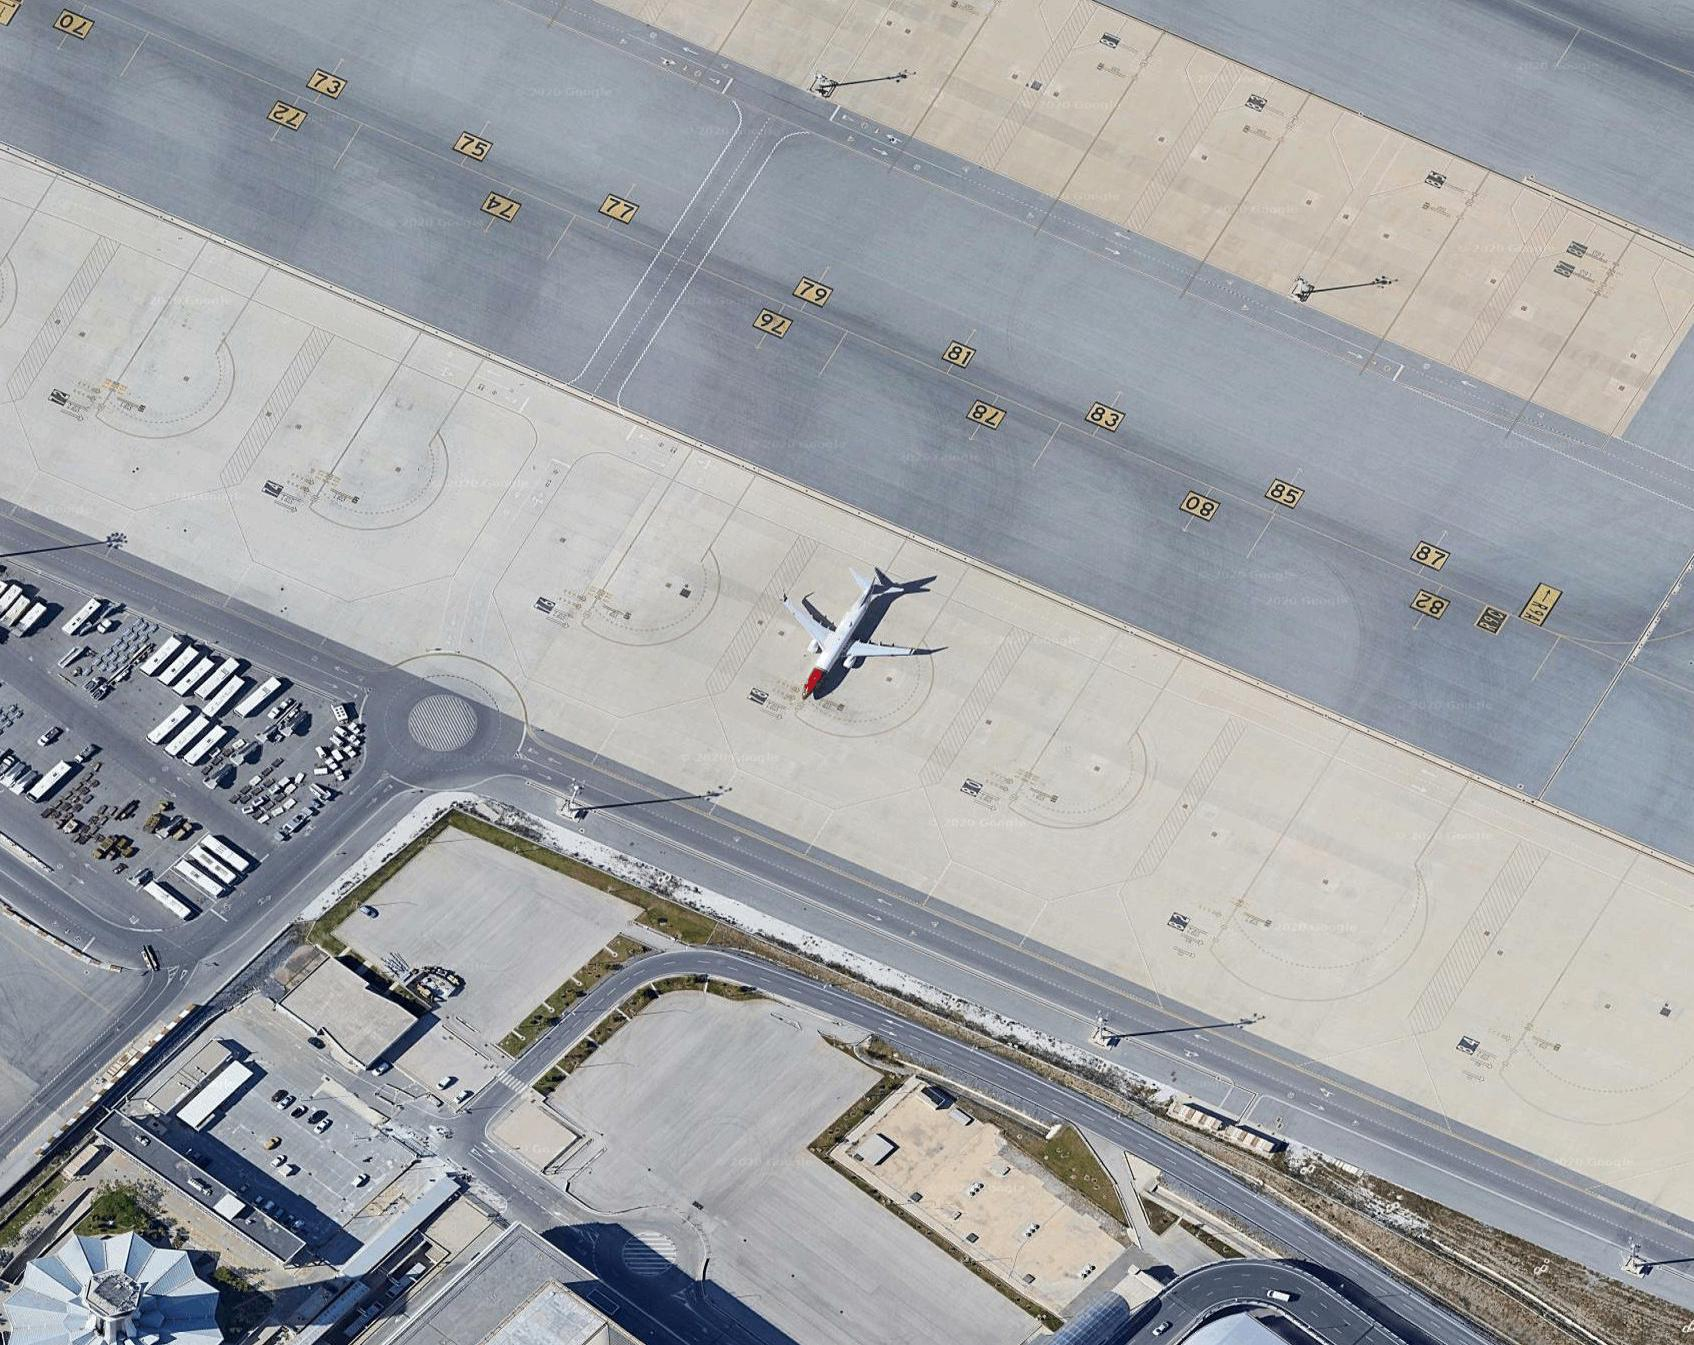plane: (748, 547, 961, 734)
